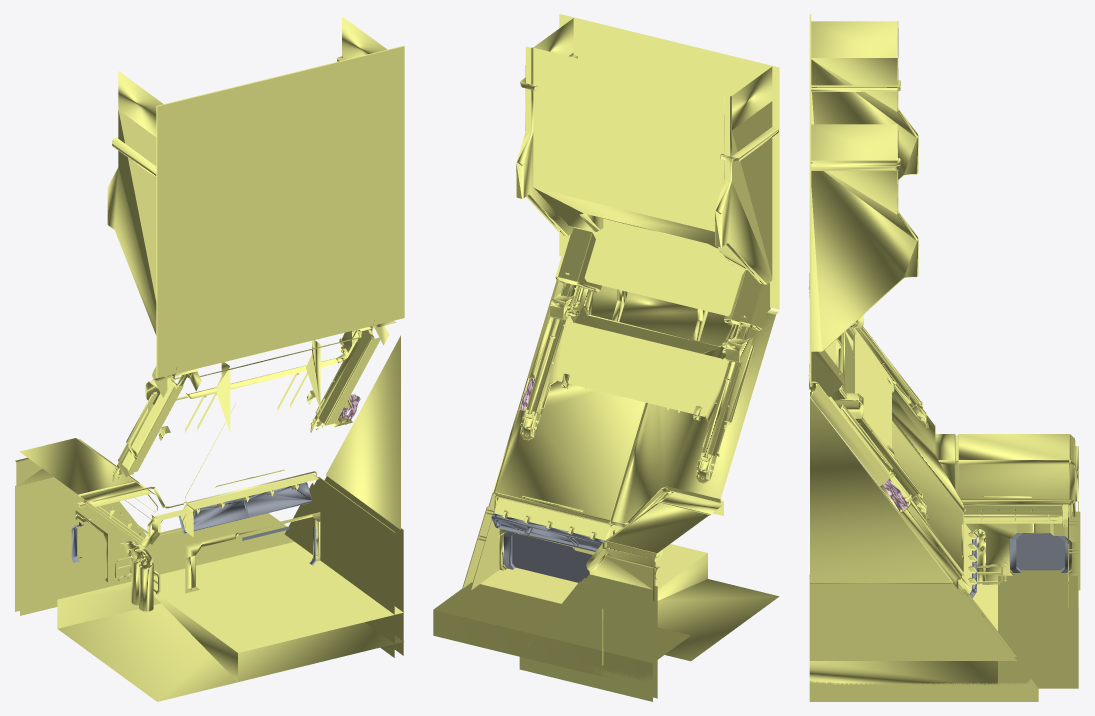
Rendered from hangar_corner_sml_med_b.glb.
The picture shows the model from 3 angles, left to right: view 1: azimuth 30°, elevation 25°; view 2: azimuth 150°, elevation 25°; view 3: azimuth 270°, elevation 25°; orthographic projection. The views are drawn at different scales.
Size of the model in its own units: 20 by 47.12 by 20.29.
